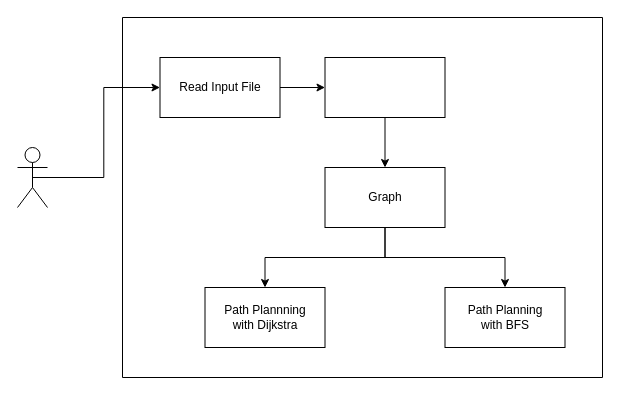
This 620x395 diagram has some shape labels left out. Each missing label, with the centre of its shape:
Map: point (384, 87)
User: point (32, 177)
